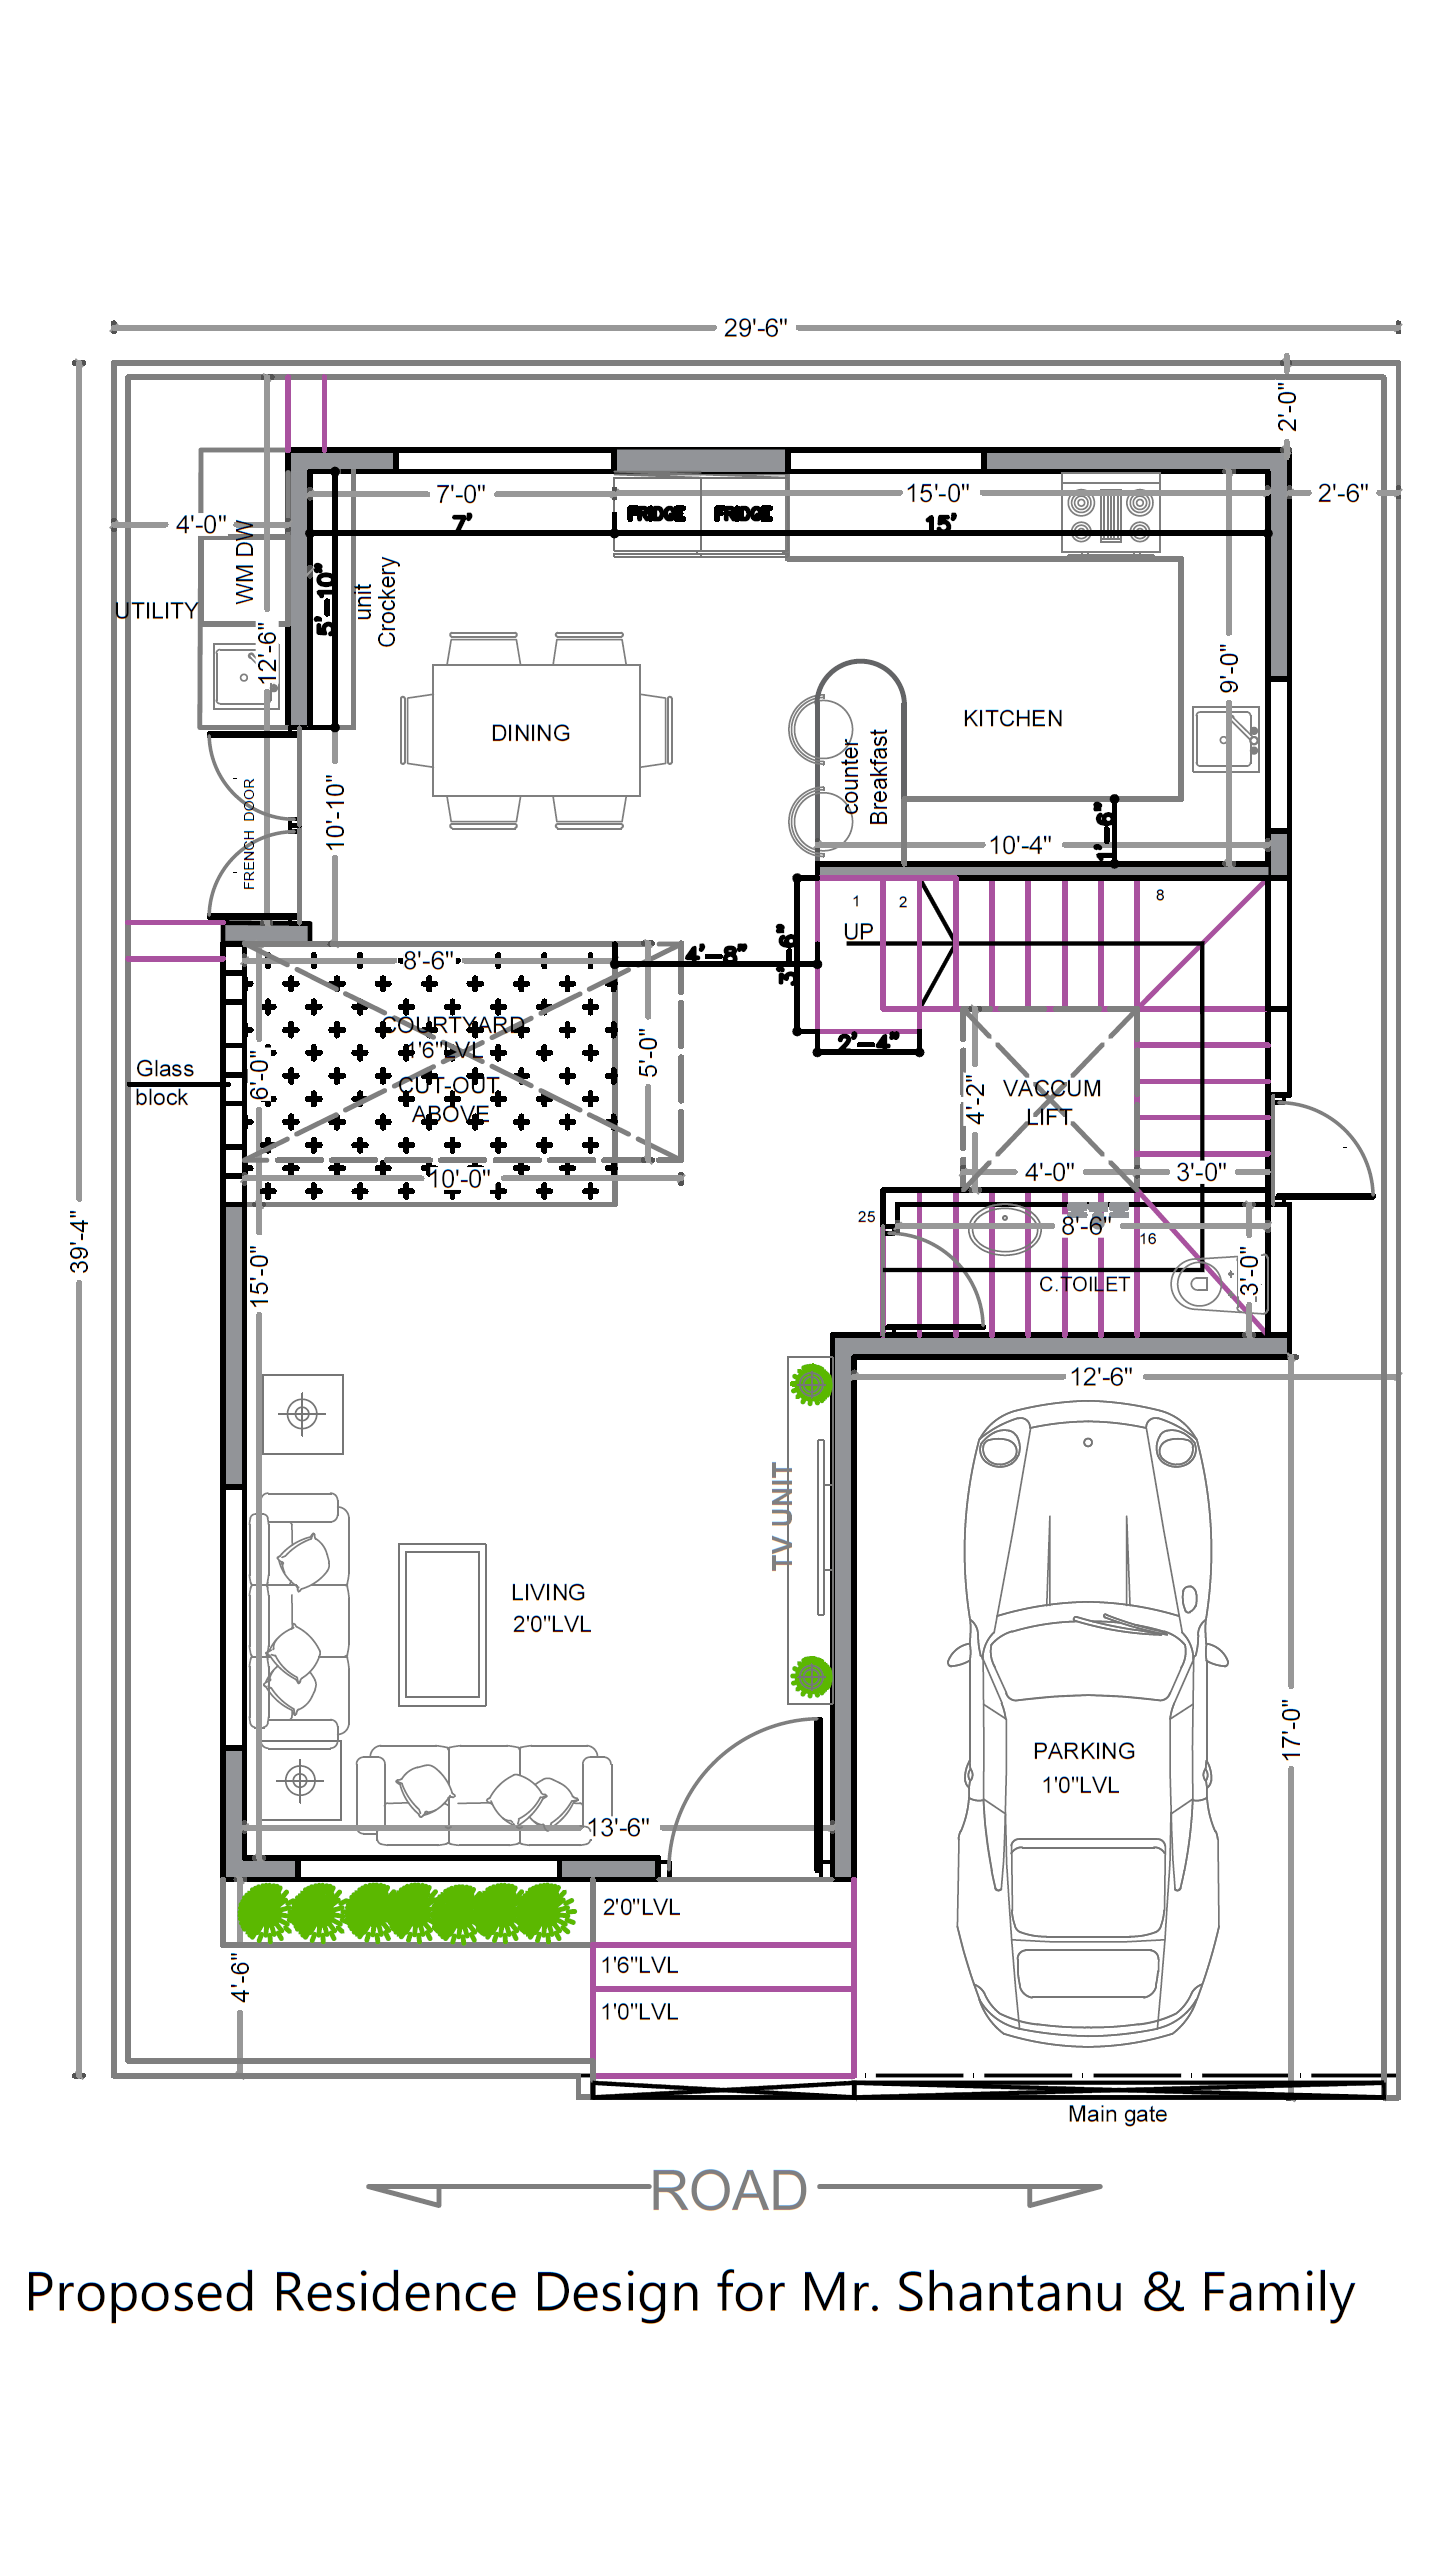door: (661, 1715, 831, 1873), (1267, 1084, 1382, 1205), (877, 1225, 992, 1342), (202, 721, 306, 821), (204, 823, 306, 923)
